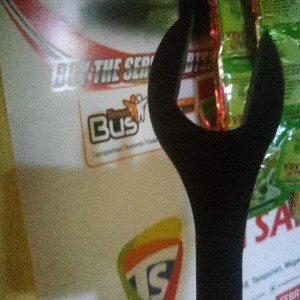spanner: (146, 11, 287, 300)
